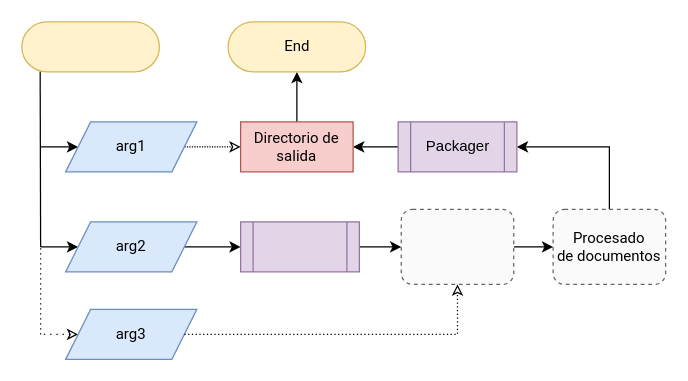
Some shapes in this 688 by 381 pixel diagram are drawn without their labels. The centre of each missing label's shape, as x and y in pixels:
"Provider" goes at (x=299, y=246).
"Provisión de documentos" goes at (x=457, y=246).
"Start" goes at (x=90, y=46).
